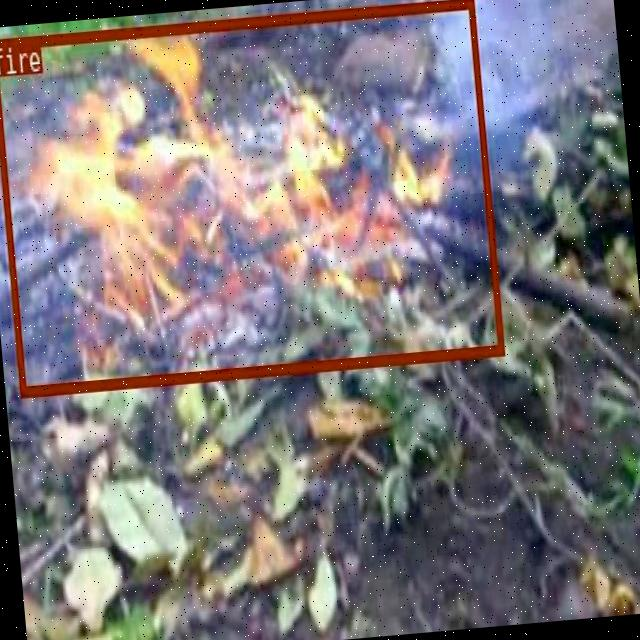fire: (0, 0, 503, 395)
